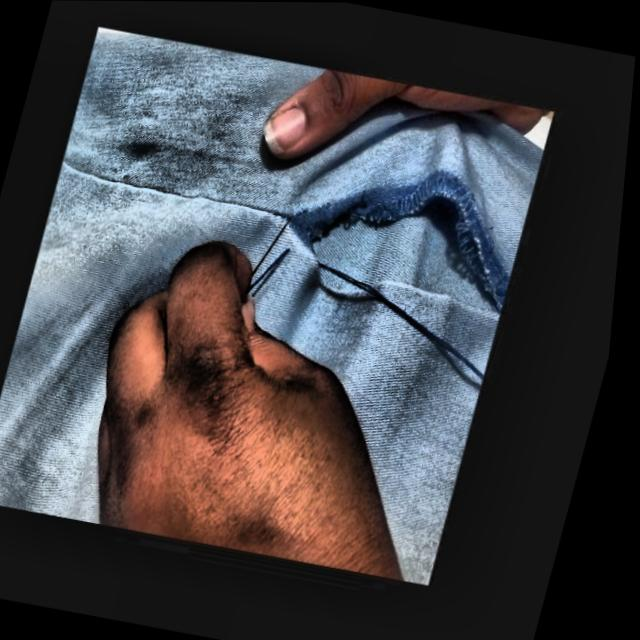seam: (266, 149, 538, 318)
